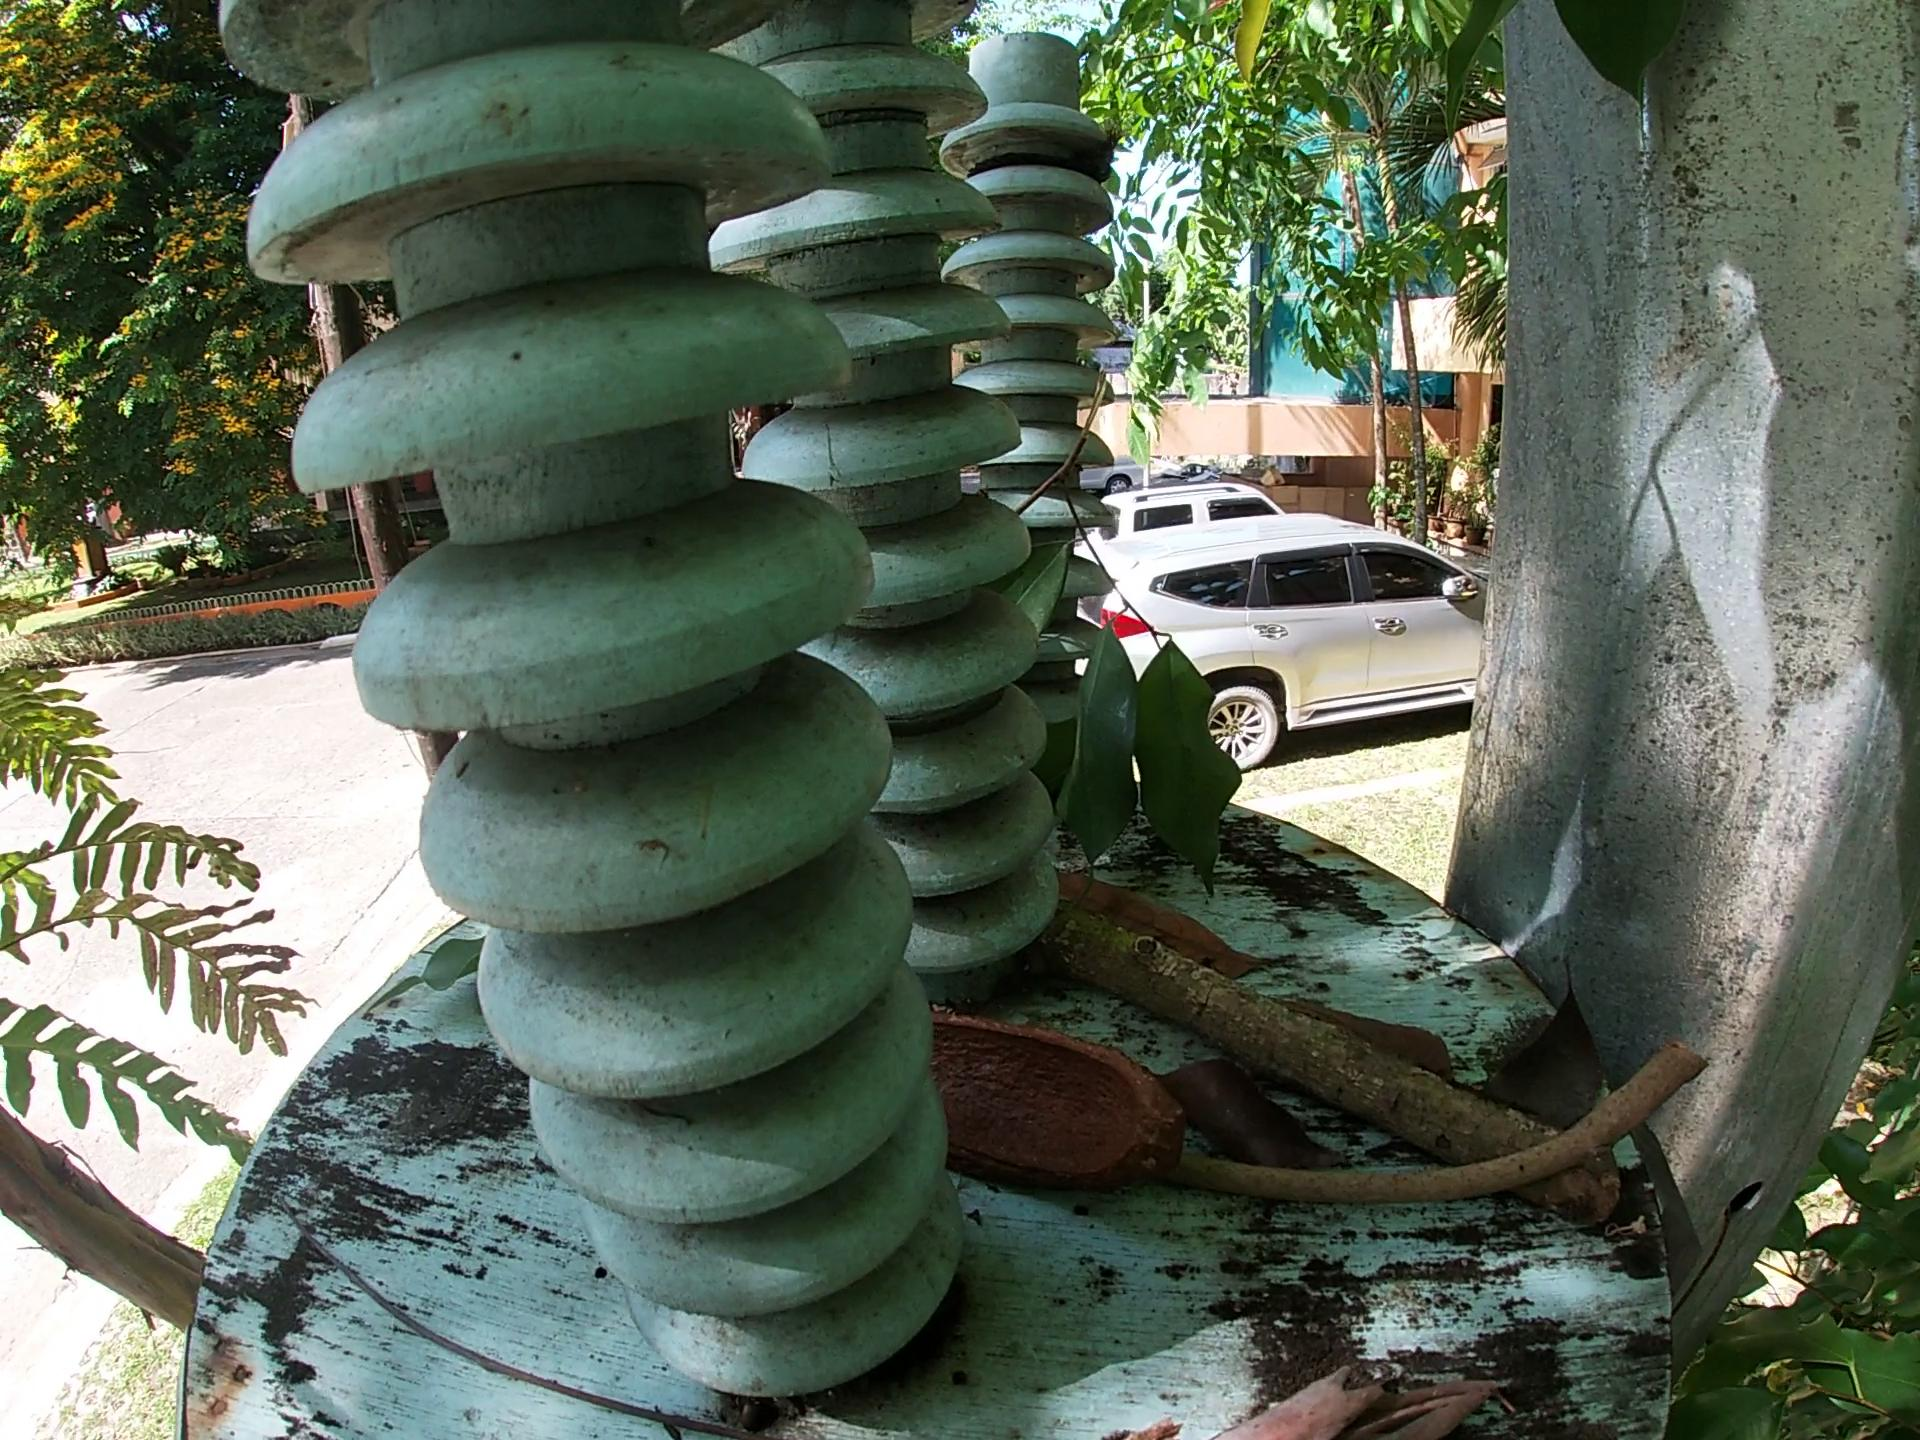branch with leaves: (1002, 372, 1250, 867)
leaf: (1474, 973, 1624, 1131), (1054, 867, 1261, 980), (1161, 1056, 1367, 1168), (351, 920, 506, 1021), (1279, 992, 1453, 1080)
mahogany fruit: (890, 992, 1184, 1206)
tree branch: (1043, 895, 1640, 1219), (290, 1227, 819, 1440), (1157, 1053, 1733, 1206), (1076, 1336, 1522, 1440)
